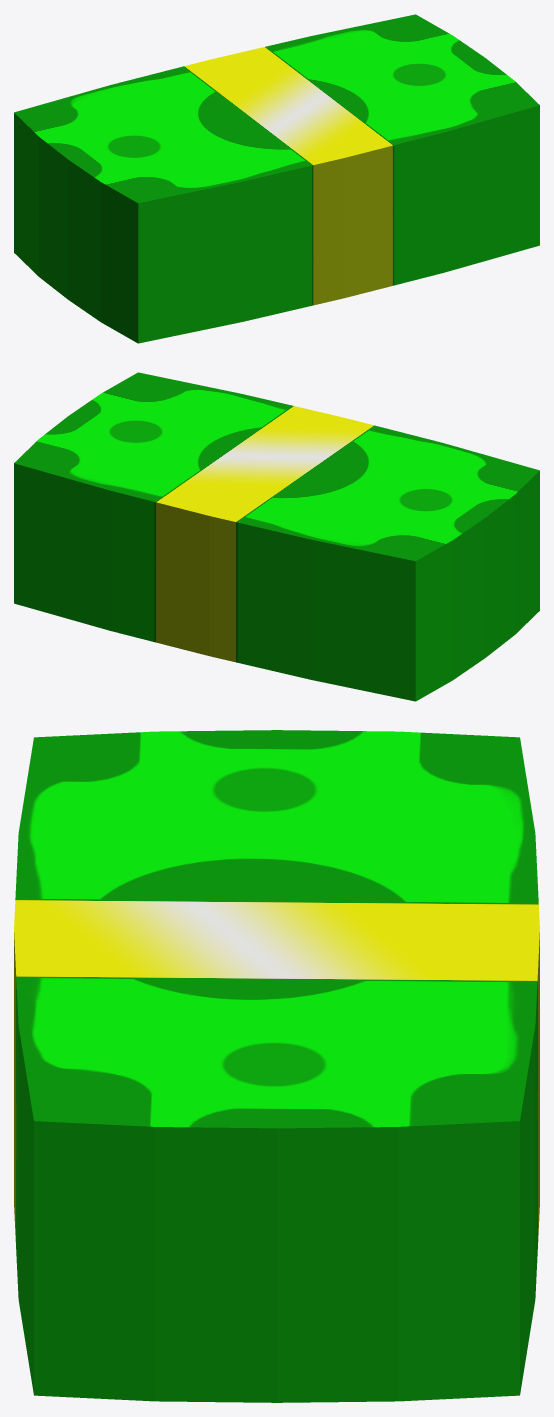
Rendered from Money.fbx.
3 renders of one model, top to bottom at view 1: azimuth 30°, elevation 25°; view 2: azimuth 150°, elevation 25°; view 3: azimuth 270°, elevation 25°, orthographic. The views are drawn at different scales.
Visible parts, largest first — view 1: Money; view 2: Money; view 3: Money.
Boxes of the visible parts, box(x1,y1,x2,y2) form: Money: box(14, 14, 539, 343); Money: box(14, 372, 539, 701); Money: box(14, 730, 539, 1402).
Bounding box in the file's own units: 388 × 125 × 216.
1 material, 1 textured.
